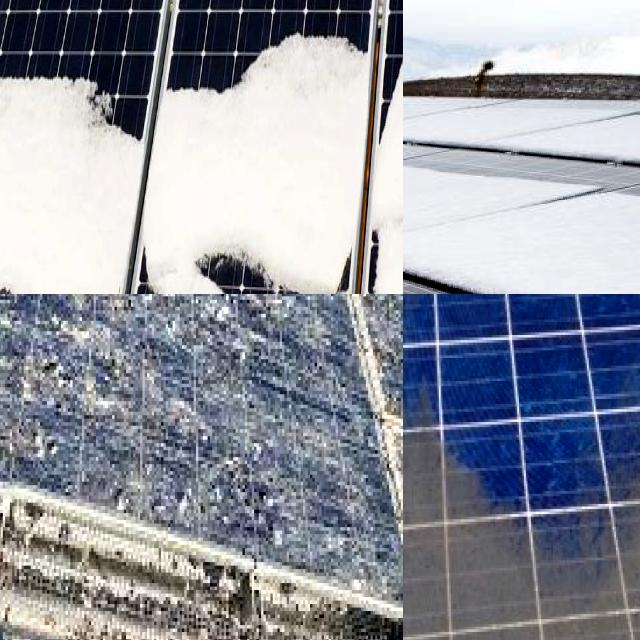bird: (255, 384, 352, 487), (86, 432, 210, 509), (109, 294, 226, 361), (0, 381, 76, 465), (0, 294, 96, 359), (242, 294, 328, 359), (0, 294, 38, 396), (0, 294, 48, 346)
dust: (403, 294, 490, 538), (403, 379, 493, 589), (512, 463, 614, 640), (419, 294, 615, 347), (454, 294, 640, 336), (403, 559, 498, 640), (403, 294, 495, 354), (403, 294, 509, 341)
panel: (455, 121, 618, 202), (164, 219, 323, 294), (70, 29, 146, 164), (403, 177, 489, 294), (204, 0, 321, 61), (228, 9, 290, 122), (300, 12, 370, 107), (403, 94, 479, 178), (17, 39, 80, 140), (162, 50, 225, 145), (517, 86, 640, 130), (486, 259, 640, 294), (403, 171, 464, 249), (25, 0, 117, 50), (380, 0, 403, 165), (403, 95, 456, 161), (363, 204, 403, 289), (403, 84, 493, 120), (122, 0, 192, 43), (325, 225, 367, 294), (403, 244, 459, 294), (0, 0, 39, 69), (327, 0, 394, 31), (127, 232, 158, 294), (0, 0, 42, 45), (0, 75, 37, 125), (0, 0, 47, 35), (0, 0, 63, 26), (403, 95, 440, 139), (0, 247, 34, 294), (0, 235, 26, 294), (0, 0, 25, 57), (0, 0, 41, 34), (0, 266, 25, 294)
